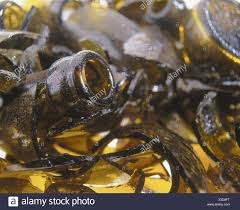glass: (1, 48, 120, 157), (77, 122, 209, 193), (183, 86, 240, 176), (175, 1, 240, 70)
